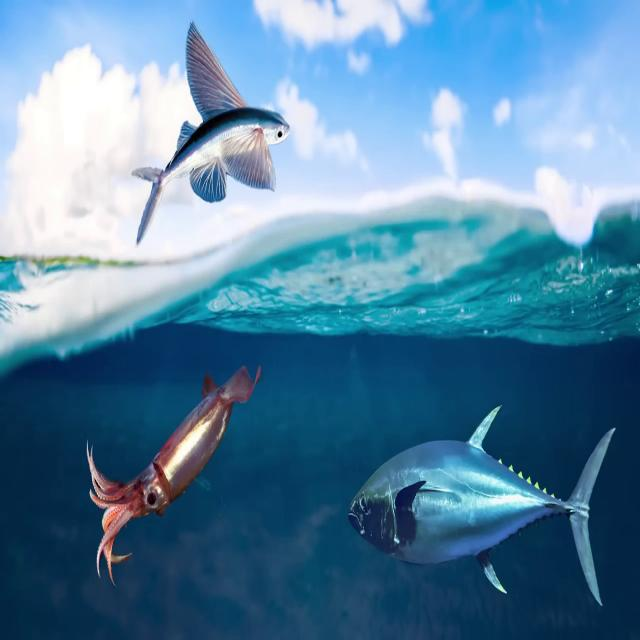squid: (88, 366, 261, 586)
